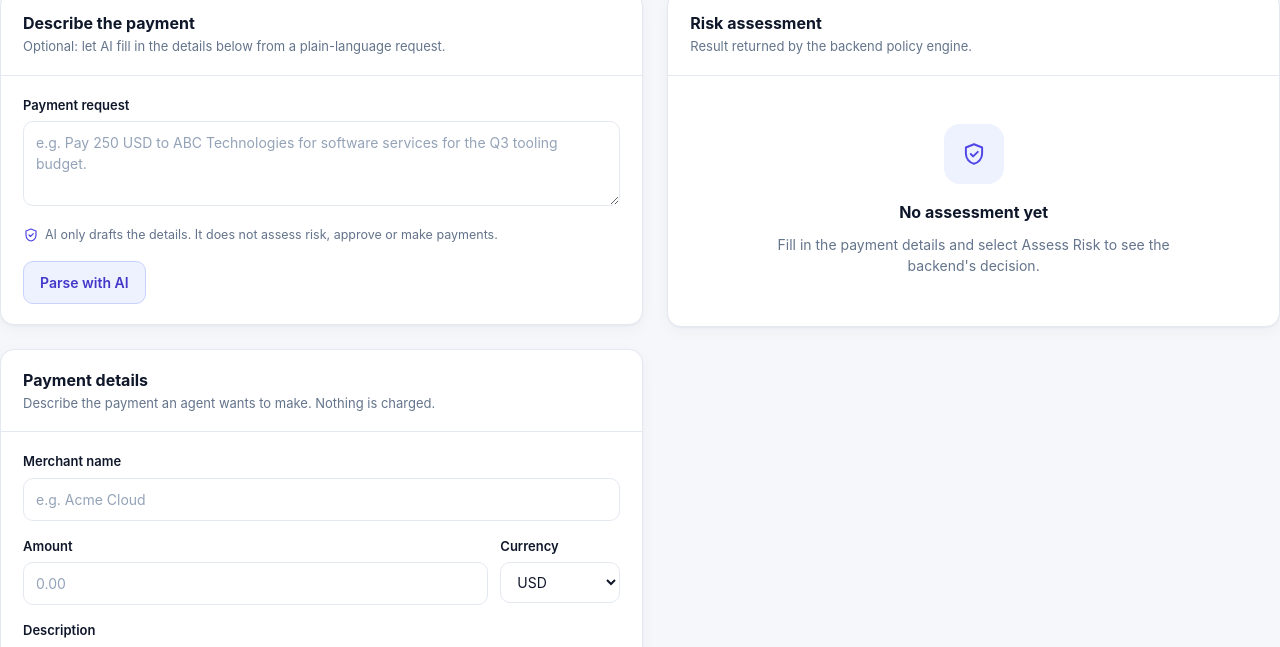
Test: INR: natural-language parsing › keeps INR as a usable currency and does not assess automatically
Type "Pay ₹7,50,000 to ABC Technologies for software services for the Q3 tooling budget." into the text box labelled "Payment request".
click(322, 164); type("Pay ₹7,50,000 to ABC Technologies for software services for the Q3 tooling budget.")  # box left=23, top=121, right=620, bottom=206
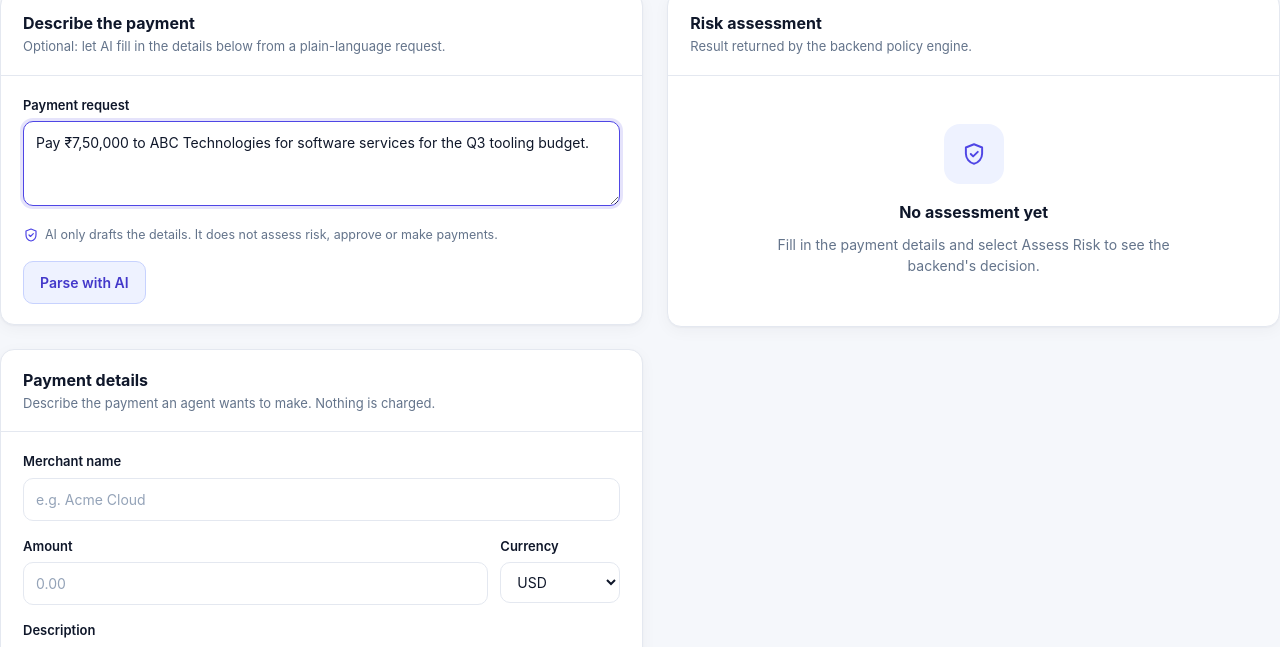
Click the button "Parse with AI".
click(84, 282)  # box left=23, top=261, right=146, bottom=304
(page scrolled)
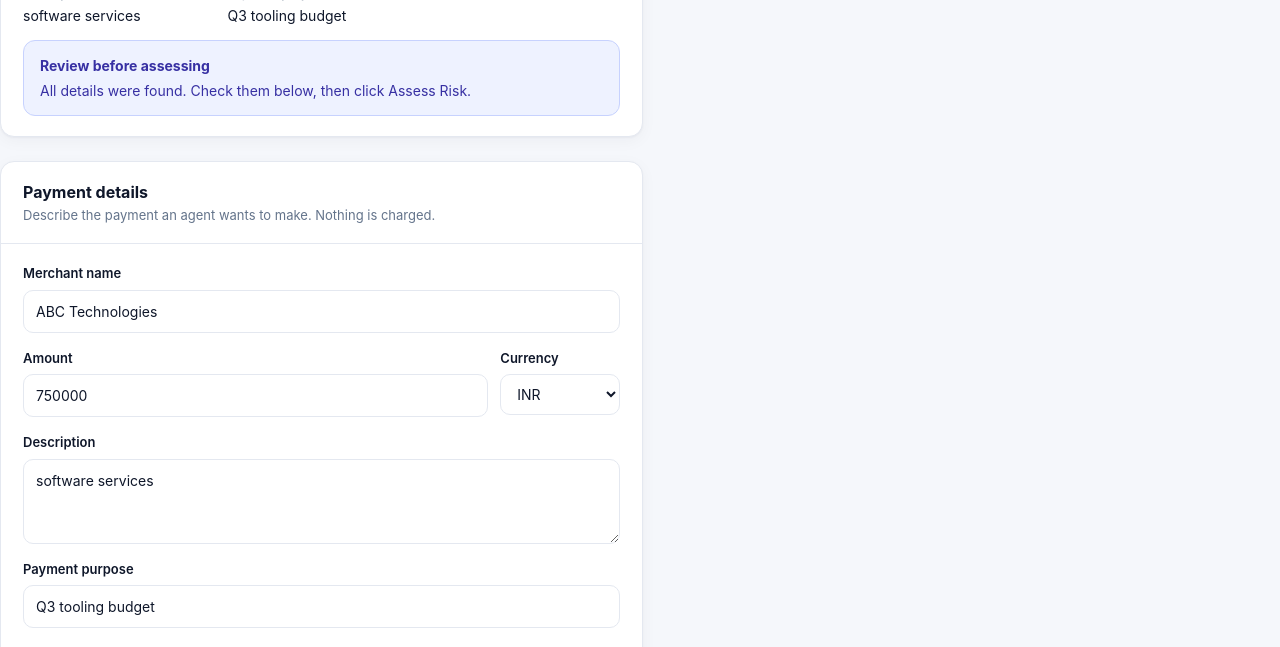
Expected: the message shows "Review before assessing", left=40, top=57, right=210, bottom=74
Expected: the dropdown labelled "Currency" shows "INR", left=500, top=374, right=620, bottom=415
Expected: the field labelled "Amount" holds "750000", left=23, top=374, right=488, bottom=417
